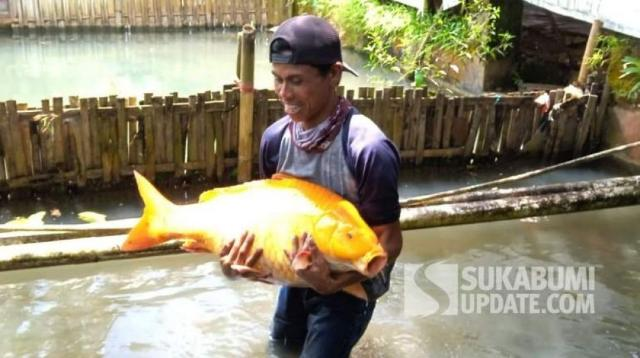Mulut: (346, 238, 404, 292)
Sirip Anal: (173, 232, 217, 260)
Sirip Dada: (336, 276, 382, 320), (280, 245, 328, 281)
Sirip Ekor: (110, 165, 173, 263)
Sirip Perut: (225, 260, 281, 298)
Sirip Punggung: (189, 166, 315, 210)
